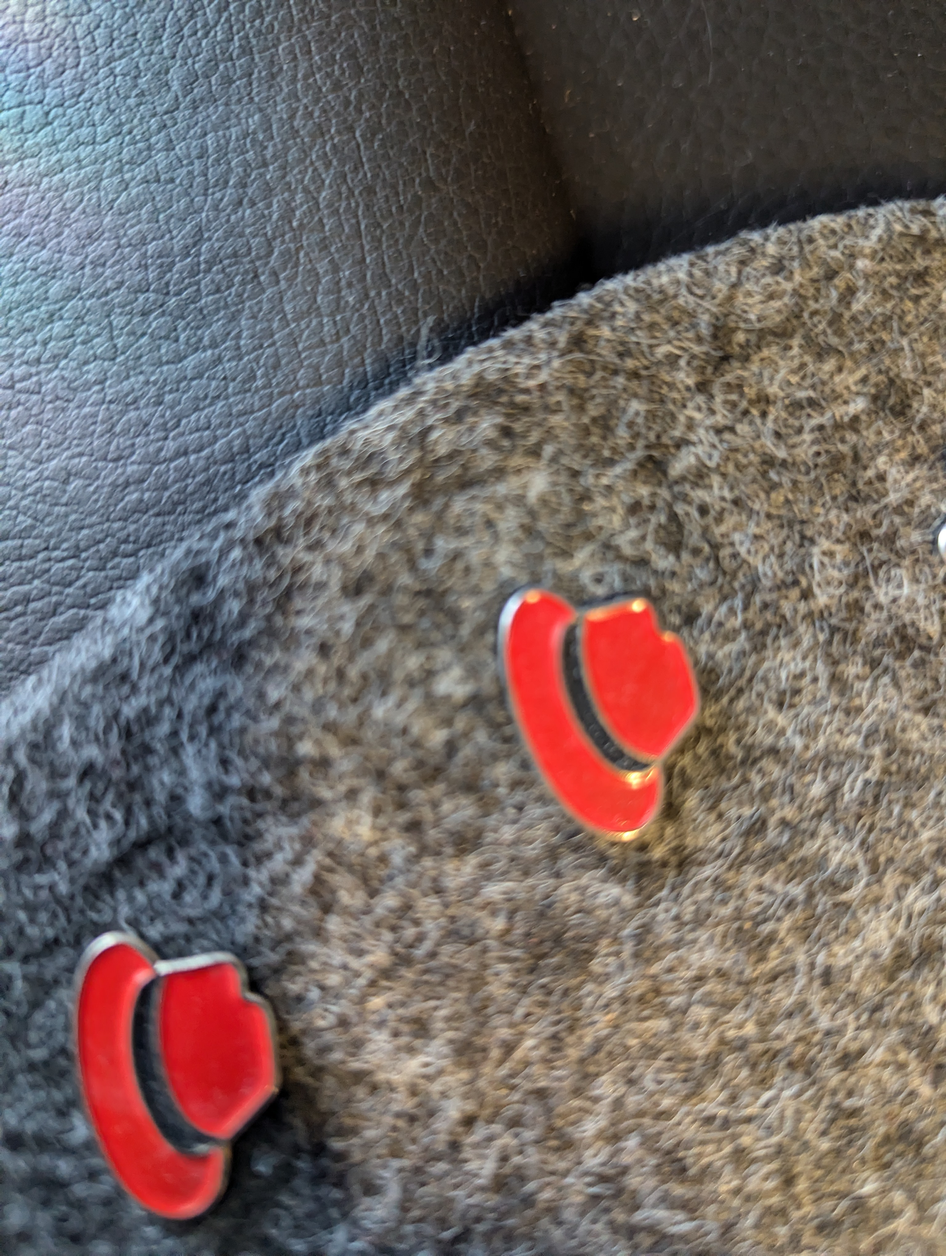Red-Hat: (479, 550, 745, 892), (51, 909, 307, 1234)
